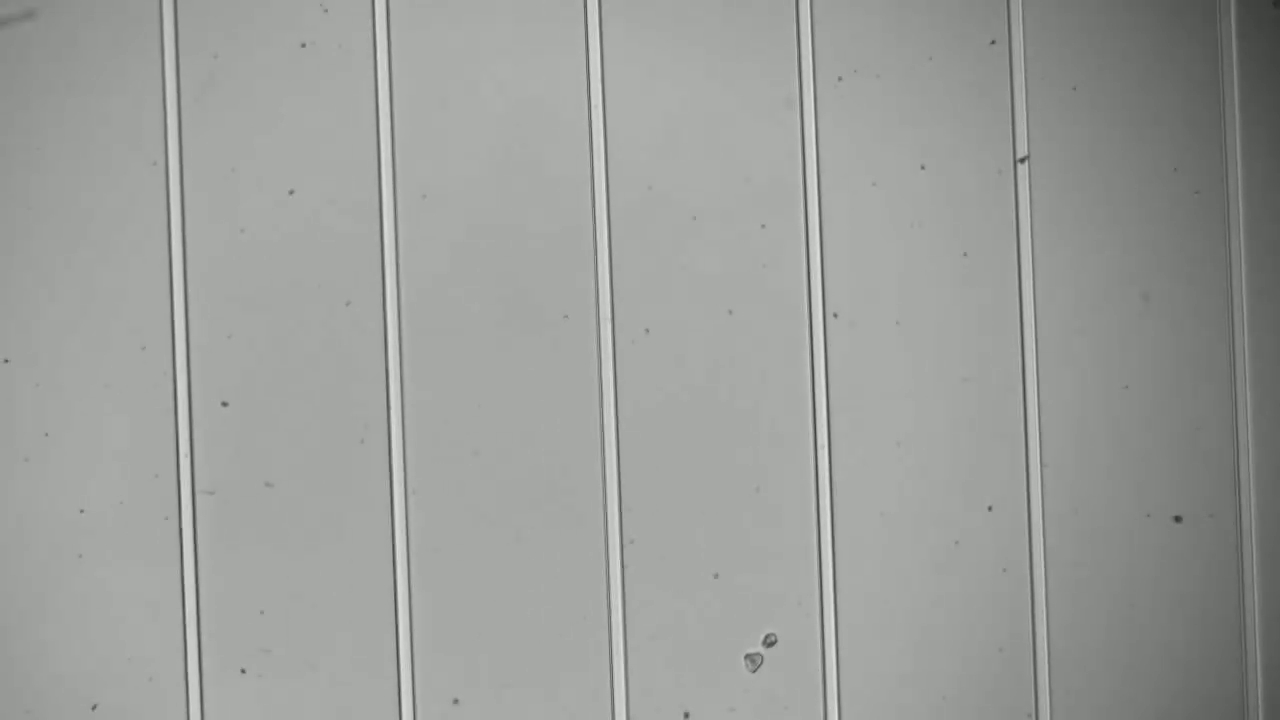stains_enbedded: (1009, 146, 1038, 171)
